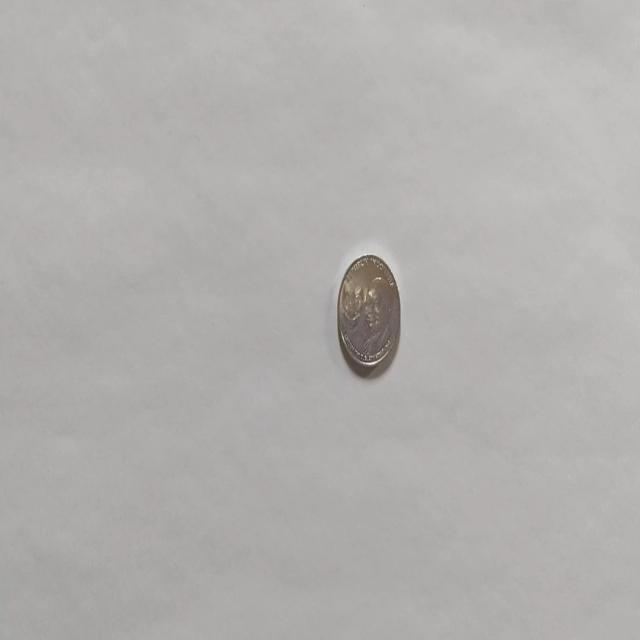lima ratus rupiah: (336, 252, 400, 372)
